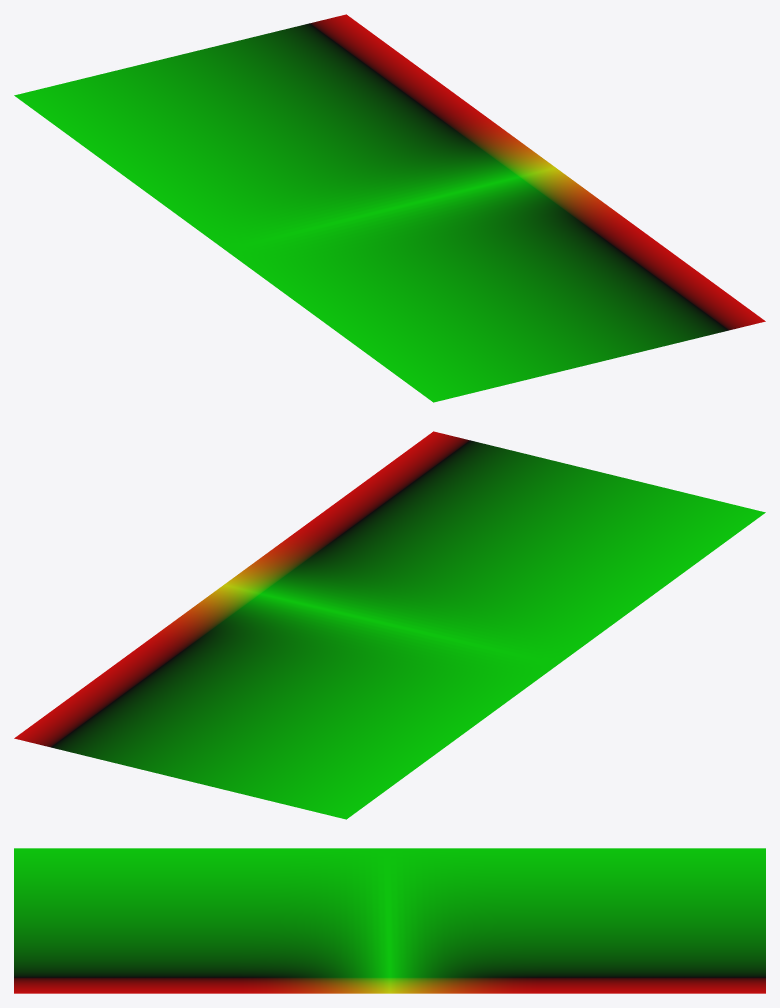
The picture shows the model from 3 angles, top to bottom: view 1: azimuth 30°, elevation 25°; view 2: azimuth 150°, elevation 25°; view 3: azimuth 270°, elevation 25°; orthographic projection. The views are drawn at different scales.
Parts seen in each view (by area): view 1: WaterSurface; view 2: WaterSurface; view 3: WaterSurface.
Boxes of the visible parts, left/top/right/bottom form: WaterSurface: left=14, top=14, right=765, bottom=402; WaterSurface: left=14, top=431, right=765, bottom=819; WaterSurface: left=14, top=848, right=765, bottom=993.
Bounding box in the file's own units: 5.49 × 8.88e-16 × 12.
